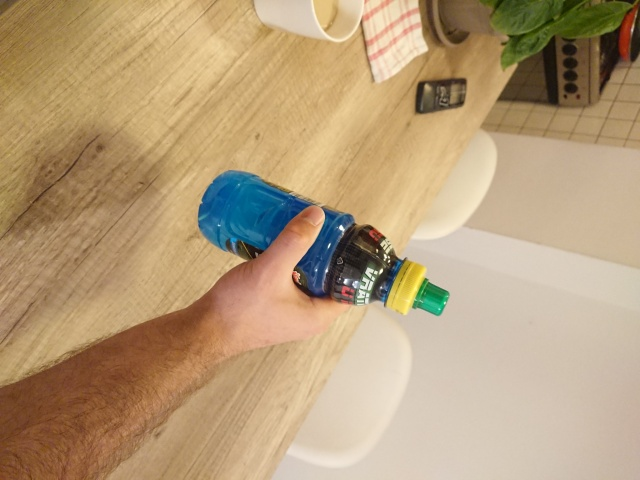Vindi Iso Sport Forest Strawberries 500mL: (196, 168, 451, 318)
